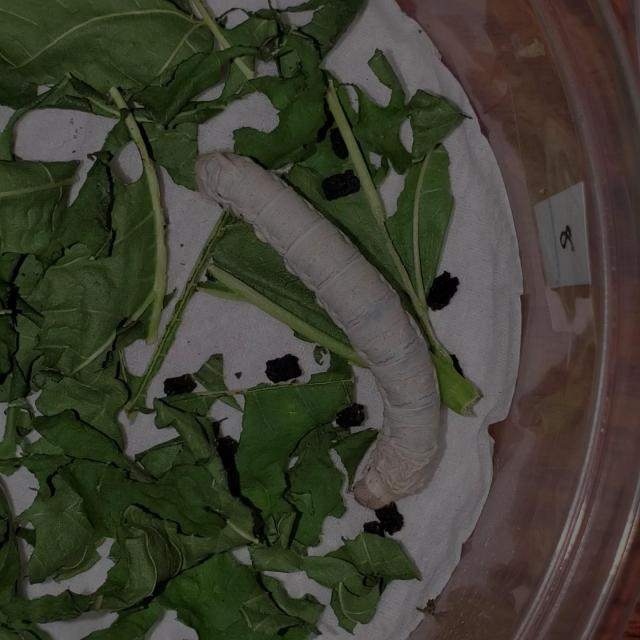Healthy: (185, 129, 475, 526)
